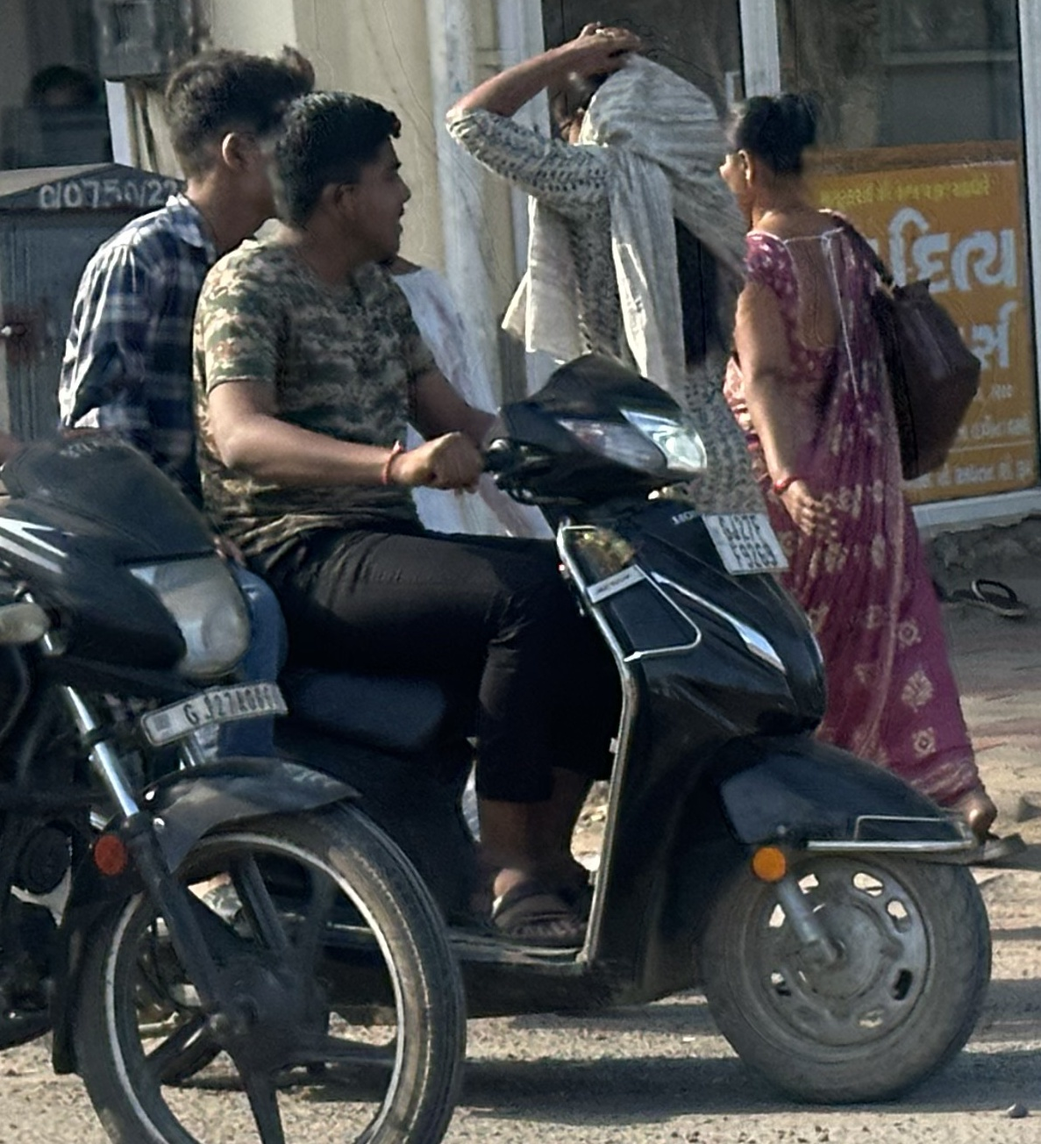BikeWithRider: (29, 31, 1009, 1110)
NoHelmet: (270, 86, 420, 279), (160, 45, 317, 227)
